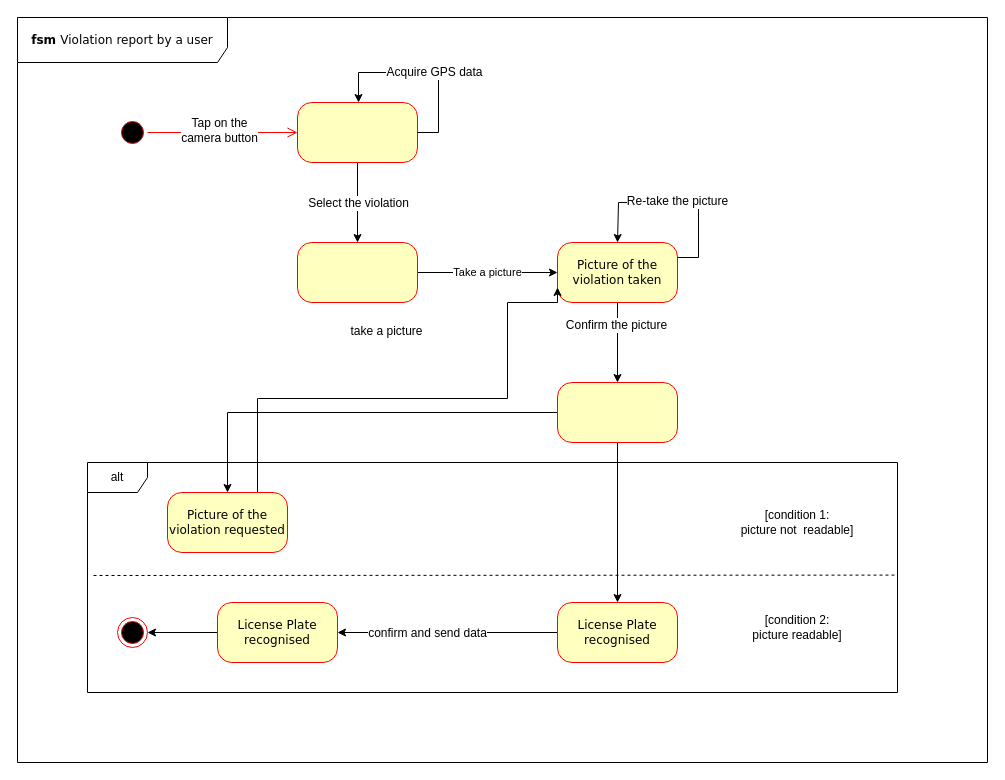
Image size: 1005x780. Some labels were removed from this diagram. The shapes that lost their labels are listed below. From the top down, each one's centre as x and y in pixels, then its label:
At point (357, 132): "Violation report acquisition mode".
At point (357, 272): "Violation selected".
At point (617, 412): "Picture sent to the License Plate Recognition API".
